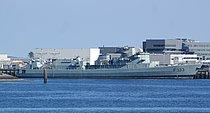MIL_Ship: (13, 55, 203, 80)
